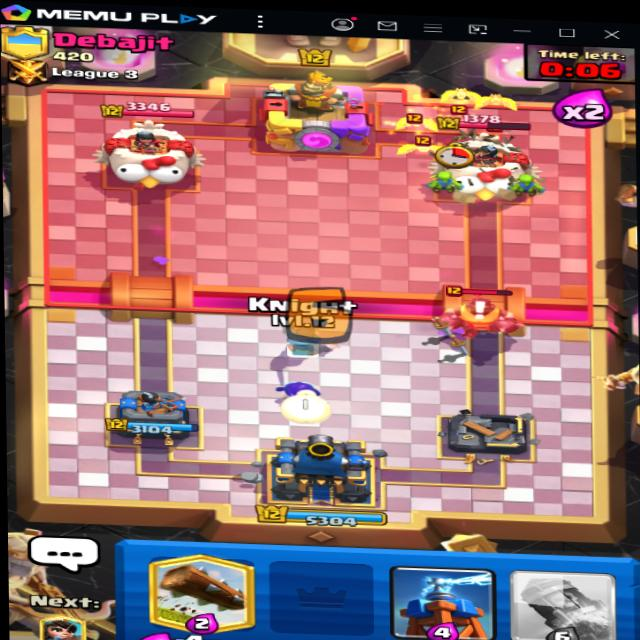bats: (393, 108, 429, 138), (405, 136, 438, 159)
mega-knight: (426, 283, 552, 348)
